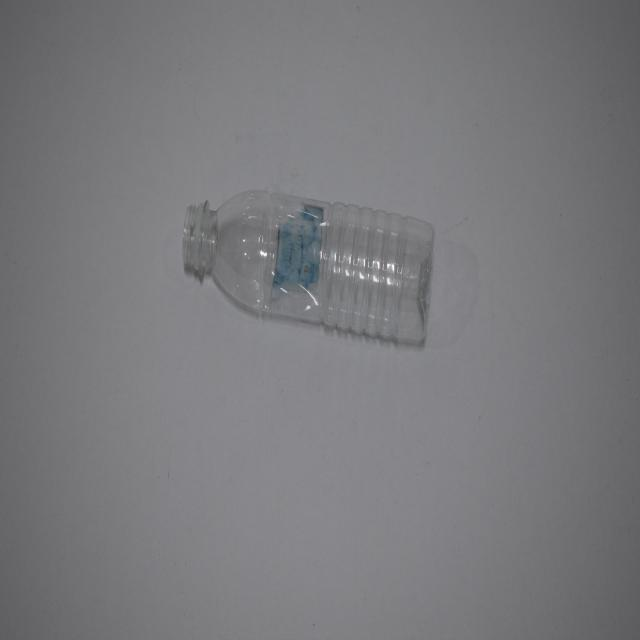bottle: (182, 188, 438, 344)
